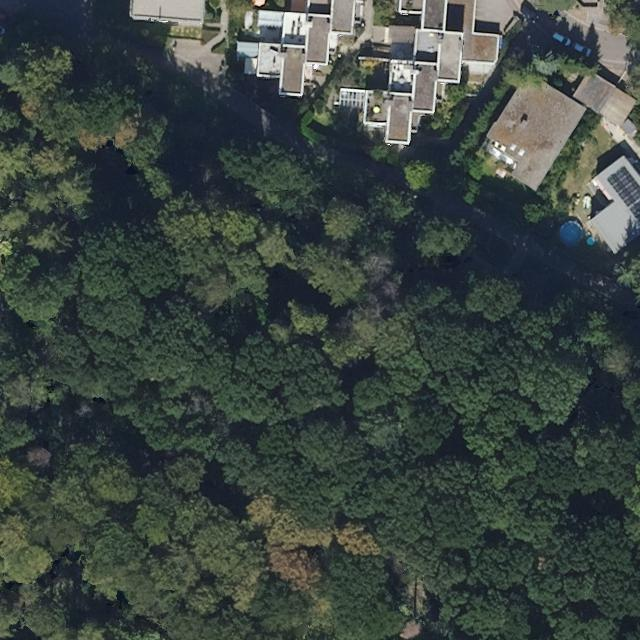PV: (604, 165, 639, 229)
